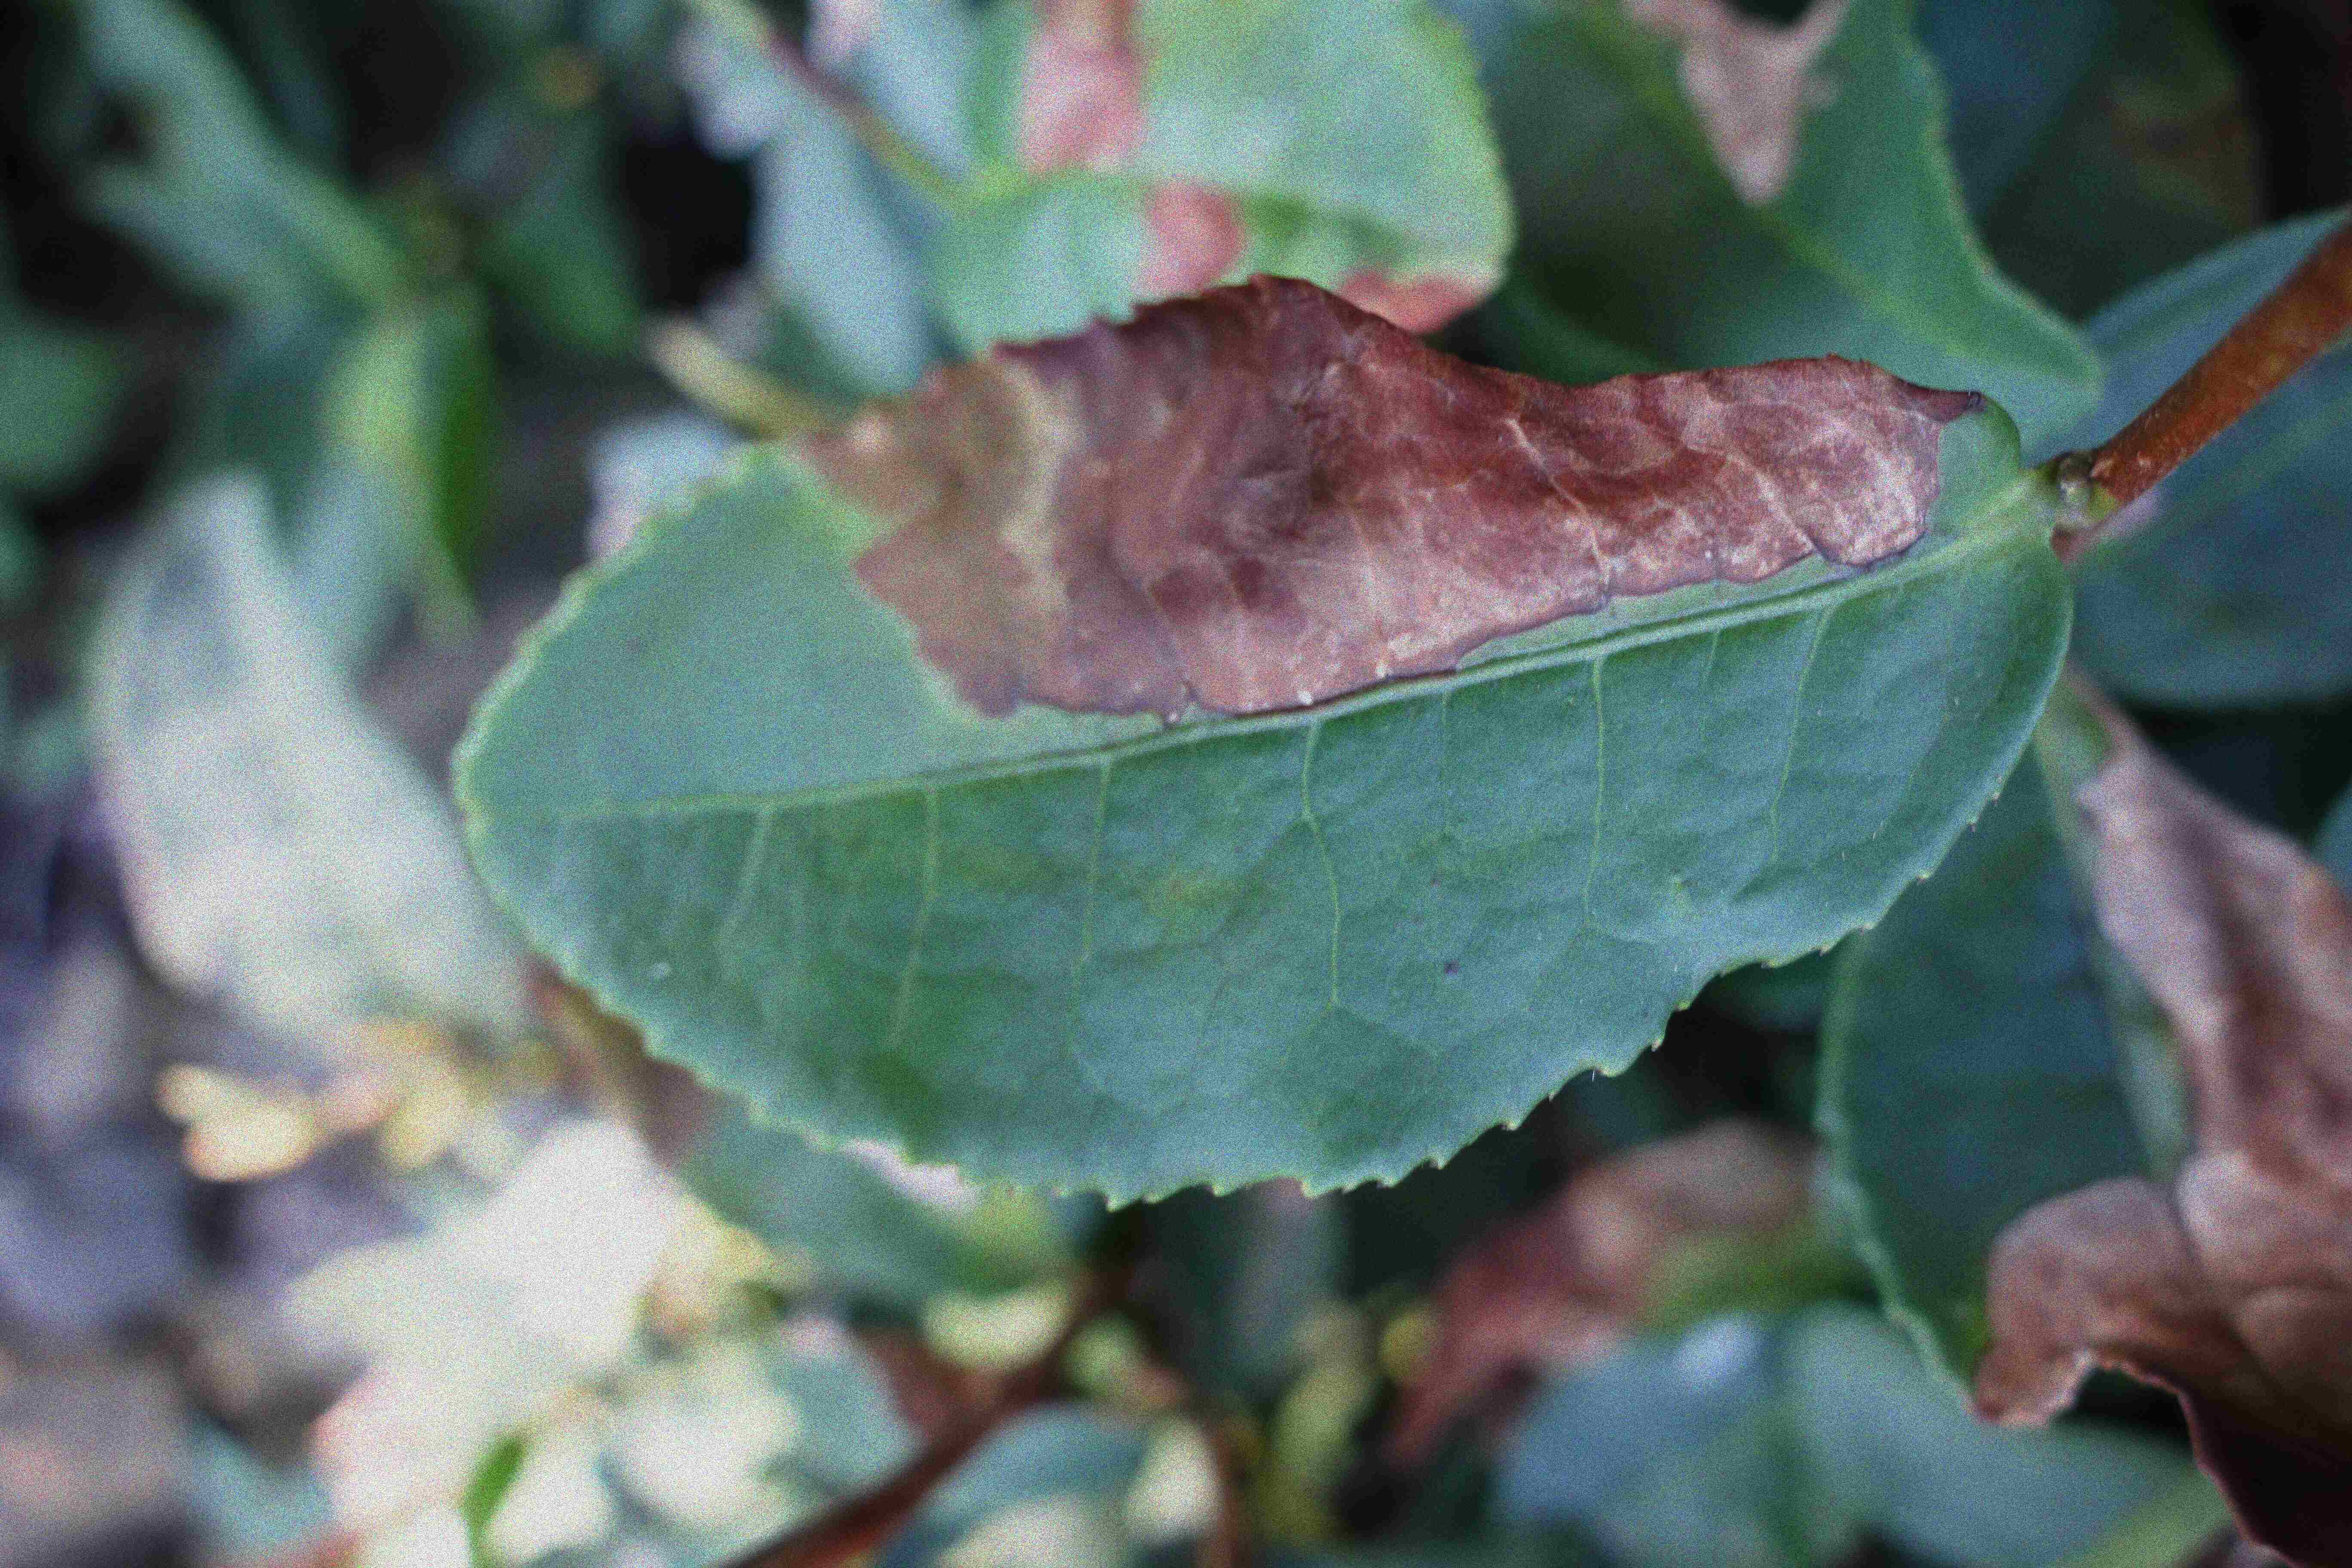tanju_high: (444, 271, 2086, 1211), (1816, 668, 2350, 1566)
